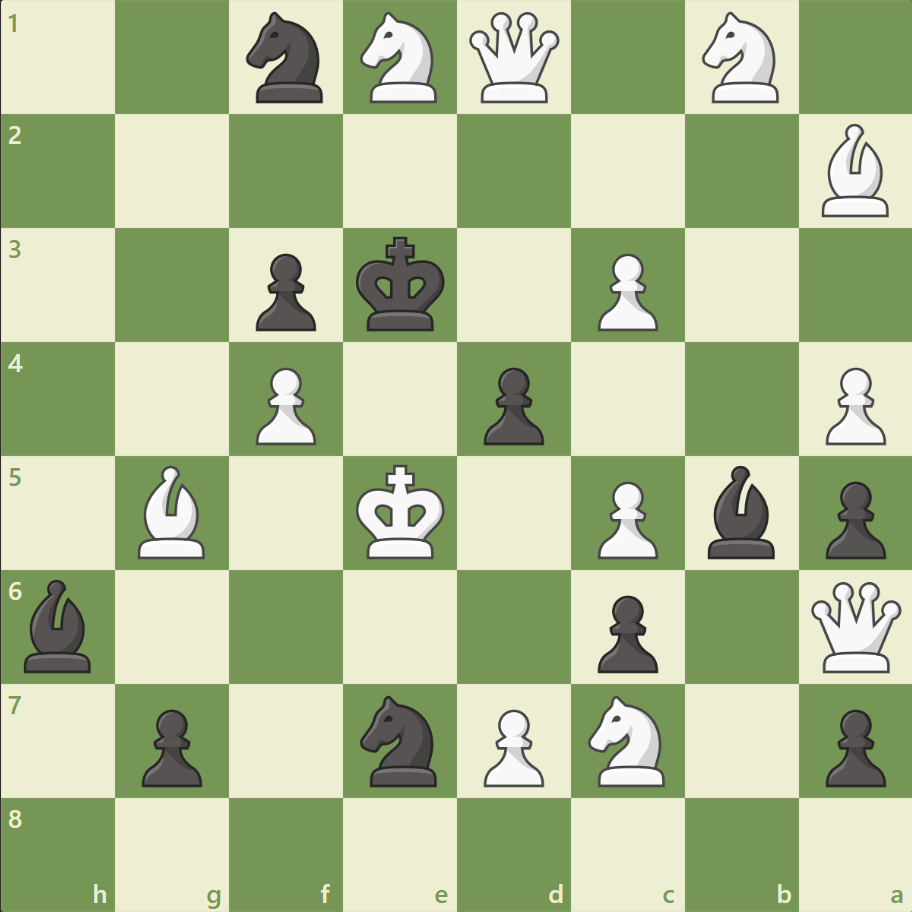B: (131, 460, 215, 563), (812, 120, 896, 222)
K: (351, 458, 451, 566)
N: (351, 7, 449, 110), (579, 688, 676, 791), (692, 7, 789, 110)
P: (474, 700, 549, 791), (247, 359, 322, 450), (588, 473, 662, 564), (815, 359, 889, 450), (588, 246, 662, 337)
Q: (805, 576, 904, 676), (464, 9, 563, 108)
b: (698, 460, 782, 563), (17, 574, 101, 676)
k: (351, 231, 451, 339)
n: (351, 688, 449, 791), (238, 7, 335, 110)
p: (133, 700, 208, 791), (474, 359, 549, 450), (247, 246, 322, 337), (815, 700, 889, 791), (588, 586, 662, 677), (815, 473, 889, 564)
